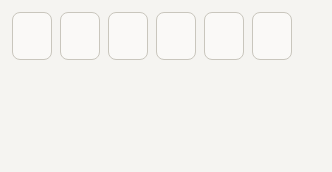
OtpInput › spreads a pasted code across the cells
Click the field named "Digit 1 of 6" at point(32, 36), box [12,12,52,60]
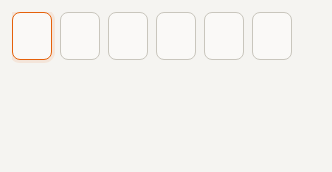
Type keys "402917"
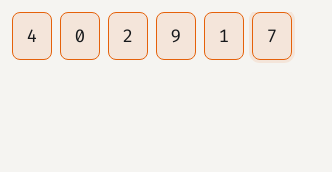
expect the field named "Digit 1 of 6" holds "4": met, box [12,12,52,60]
